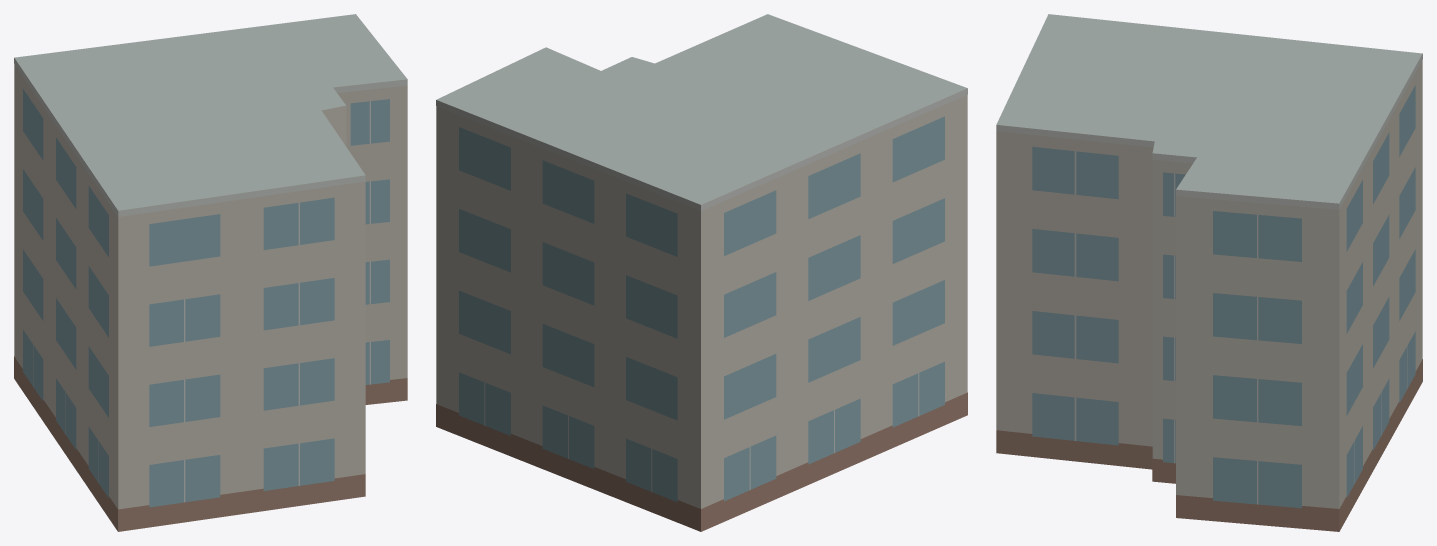
Rendered from survey-upis-32866898.glb.
The picture shows the model from 3 angles, left to right: view 1: azimuth 30°, elevation 25°; view 2: azimuth 150°, elevation 25°; view 3: azimuth 270°, elevation 25°; orthographic projection. The views are drawn at different scales.
Parts seen in each view (by area): view 1: survey-upis-32866898.tmp; view 2: survey-upis-32866898.tmp; view 3: survey-upis-32866898.tmp.
Boxes of the visible parts, x1,y1,x2,y2 form: survey-upis-32866898.tmp: (14,14,407,531); survey-upis-32866898.tmp: (436,14,967,531); survey-upis-32866898.tmp: (996,14,1422,531).
Size of the model in its own units: 15.74 by 12.7 by 14.96.
